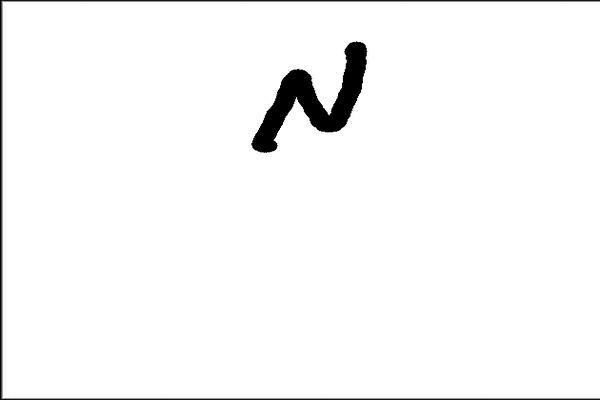N: (249, 36, 372, 160)
